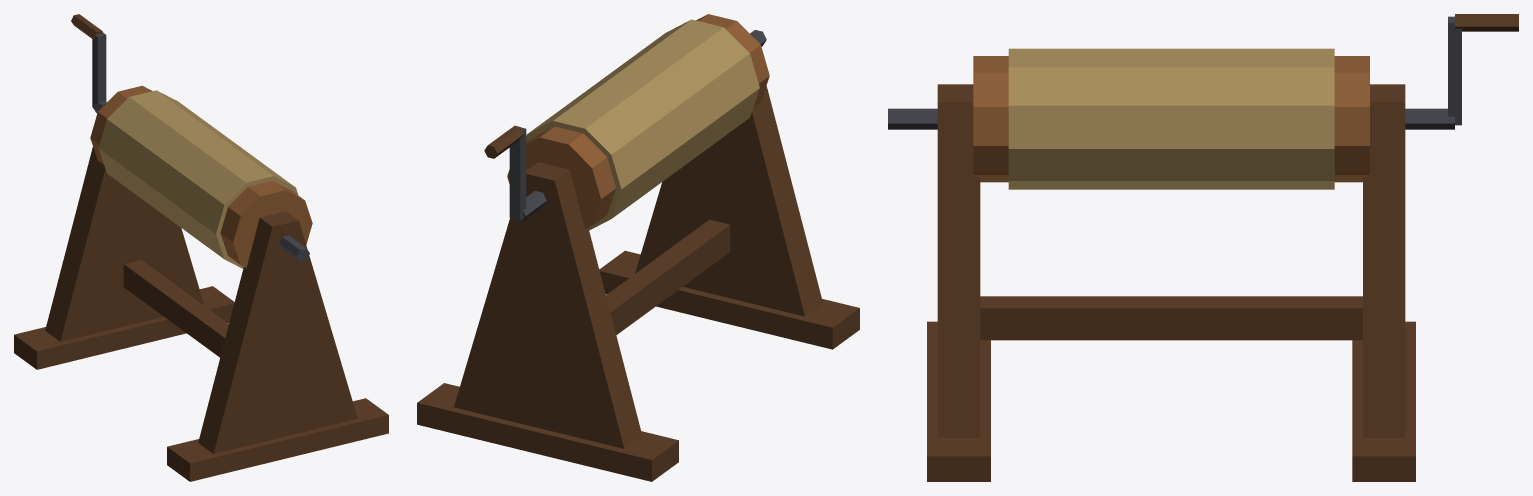
Rendered from mine_winch.glb.
3 views of the same model, side by side, from view 1: azimuth 30°, elevation 25°; view 2: azimuth 150°, elevation 25°; view 3: azimuth 270°, elevation 25° (orthographic). The views are drawn at different scales.
Parts seen in each view (by area): view 1: mine_winch; view 2: mine_winch; view 3: mine_winch.
Boxes of the visible parts, bbox=[...] form: mine_winch: bbox=[14, 14, 388, 481]; mine_winch: bbox=[417, 14, 859, 481]; mine_winch: bbox=[888, 14, 1518, 481].
Size of the model in its own units: 0.9 by 1.24 by 1.78.
